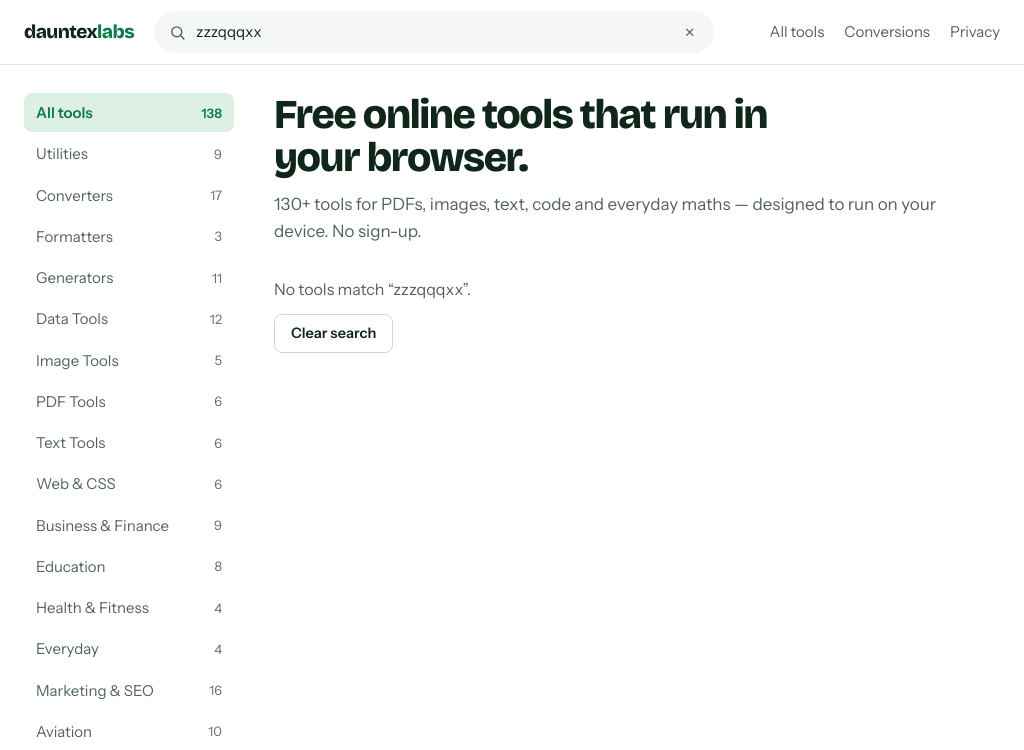
it: HomeClient › shows an empty state with a working "Clear search"
Expected: the text "No tools match “zzzqqqxx”." is shown, [274,279,471,299]
What coordinates should you click on to do the following:
click the button "Clear search"
I would click on:
 (334, 334)
Its box is [274,314,393,353].
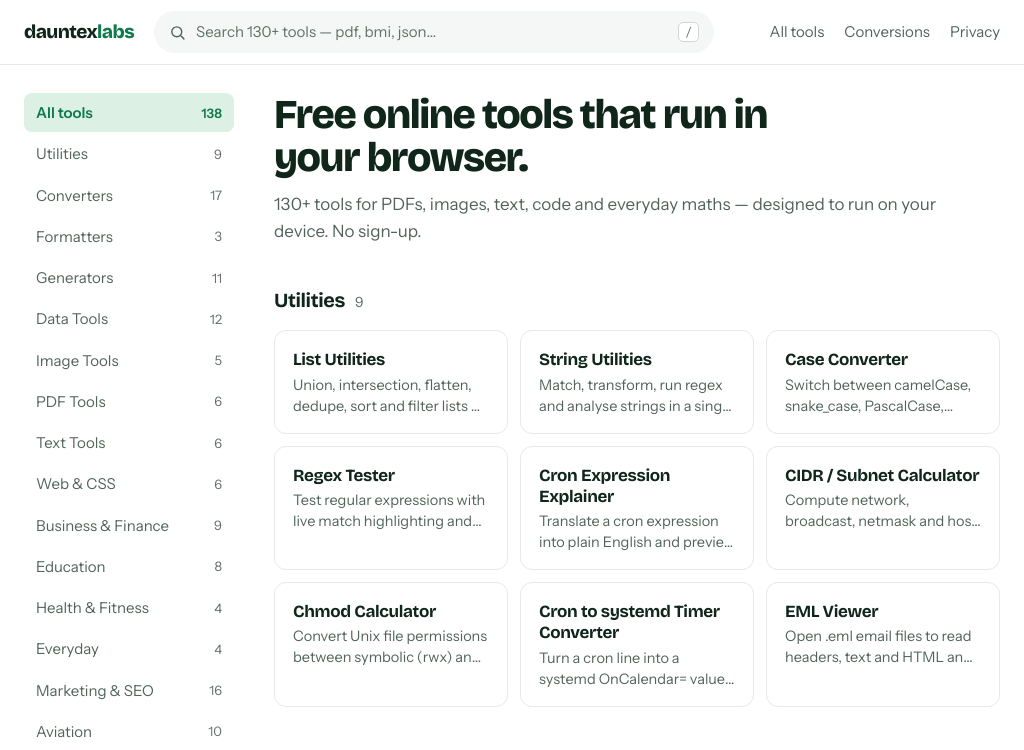
Now the text "No tools match" is gone
